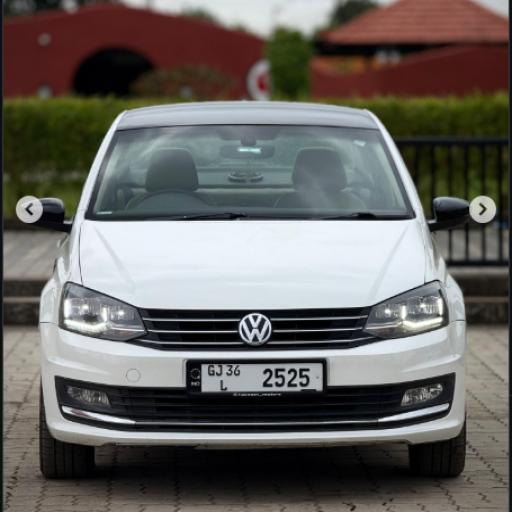License: (185, 363, 329, 394)
